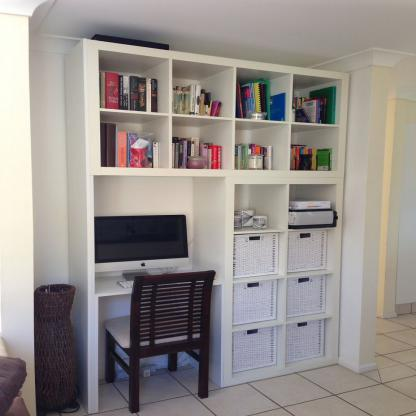lamp: (60, 37, 351, 416)
